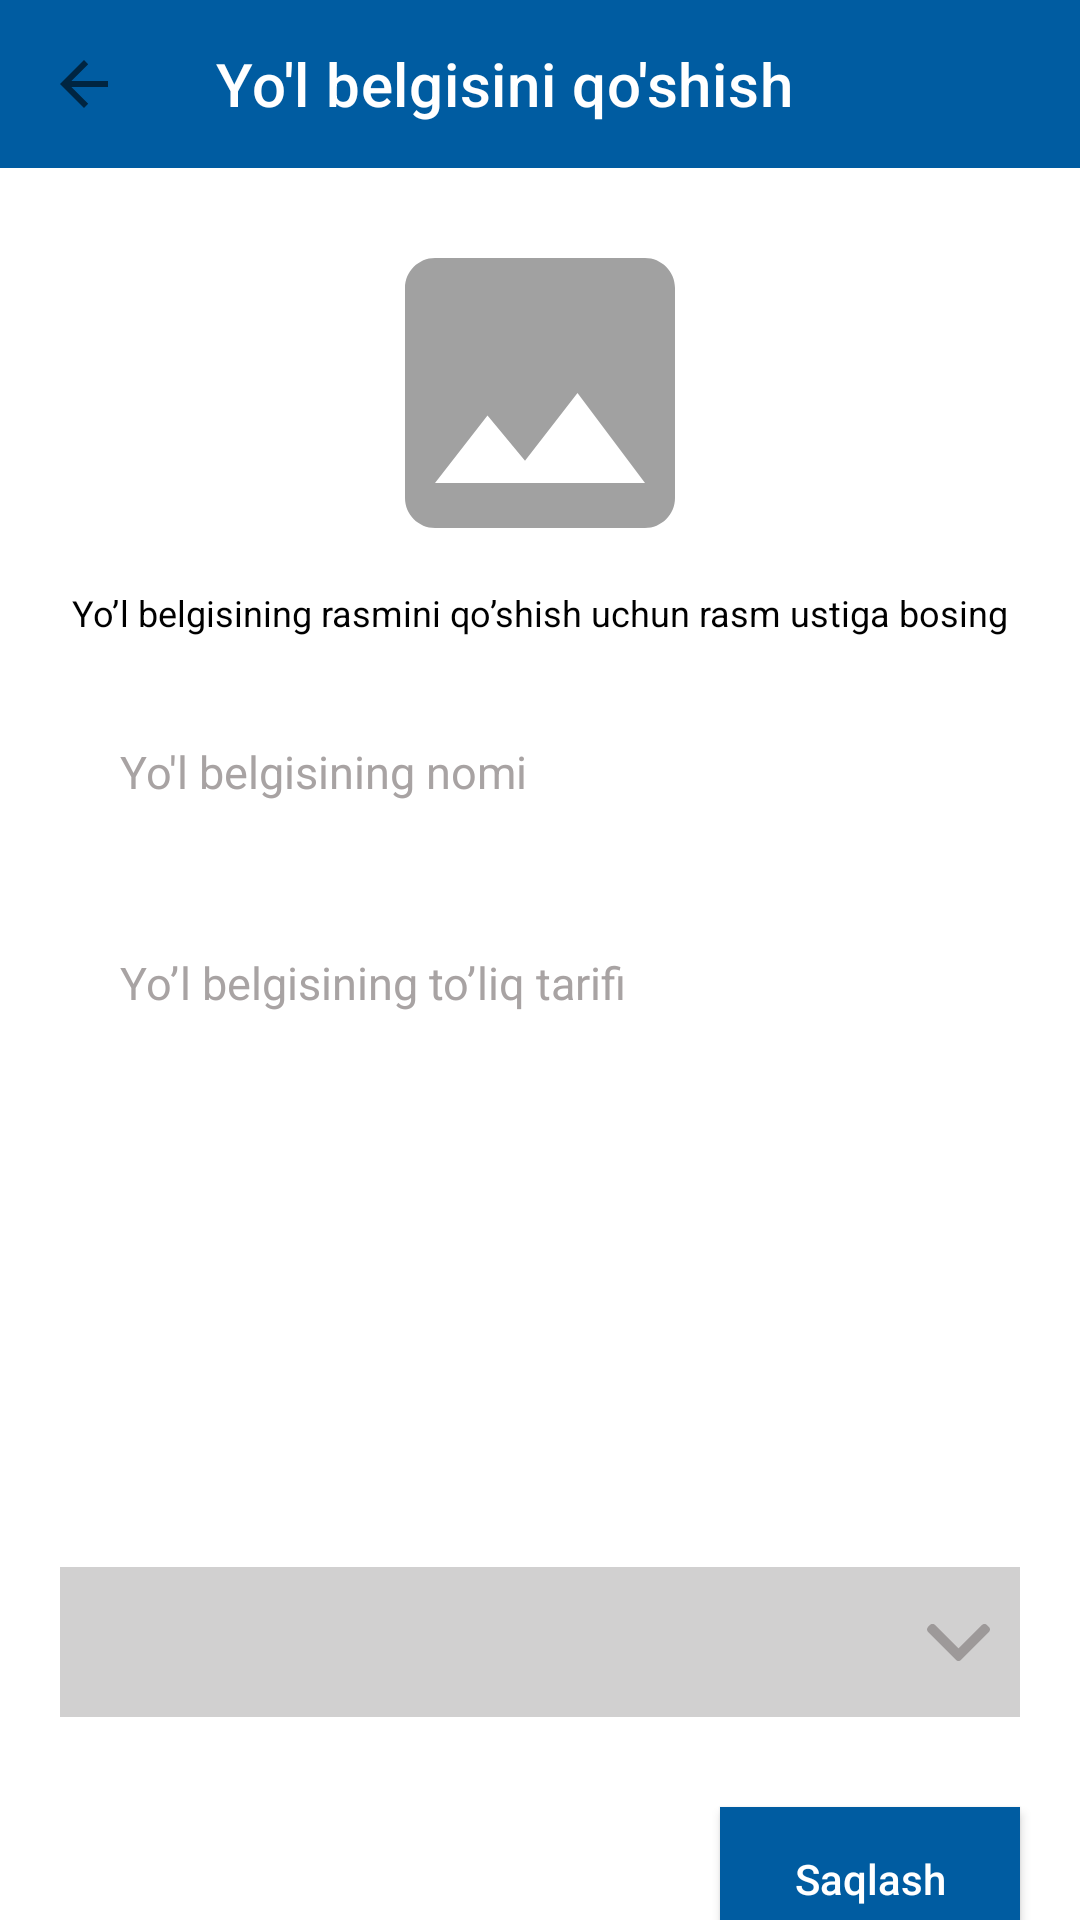

Named icons in this screenshot (1080w x 1920h) and their centers, [x,y]:
down arrow: [958,1642]
